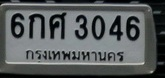num6: (9, 12, 26, 39)
txt01: (27, 13, 46, 40)
txt33: (48, 11, 67, 40)
